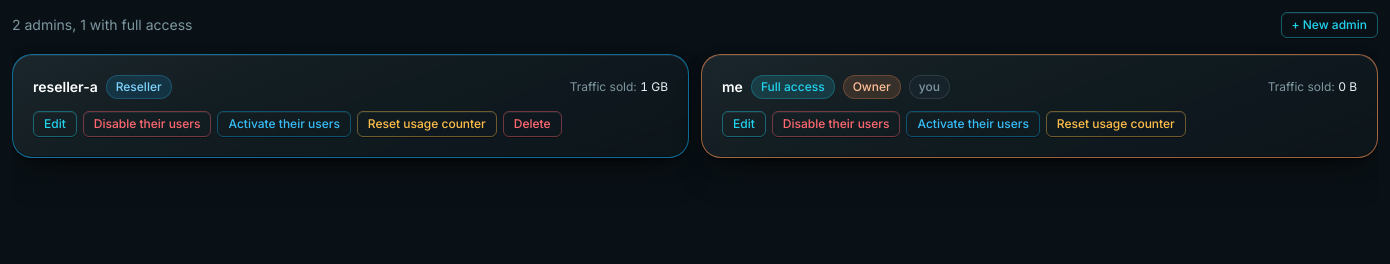
bulk actions on an admin › shows one confirmation at a time, and Cancel closes it without doing anything
Click the button "Disable their users" below "reseller-a": point(147, 124) [83,111,212,137]
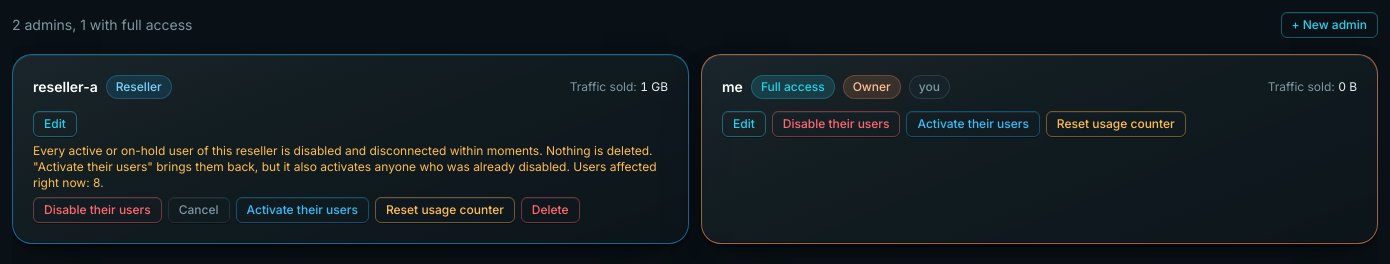
Click the button "Activate their users" below "Users affected right now:  8 .": point(302, 210) [236,197,369,223]
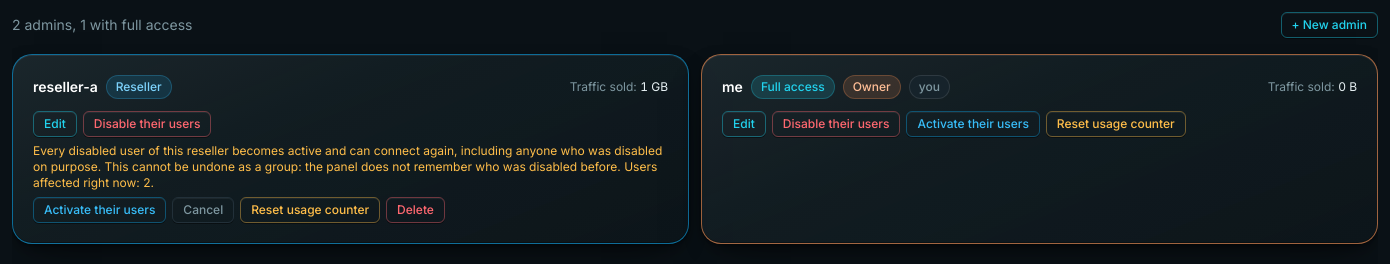
expect the text "is disabled and disconnected within moments" is gone: met
expect the text "becomes active and can connect again" is shown: met, box [33,143,662,174]
Click the button "Cancel": point(203, 210) [172,197,234,223]
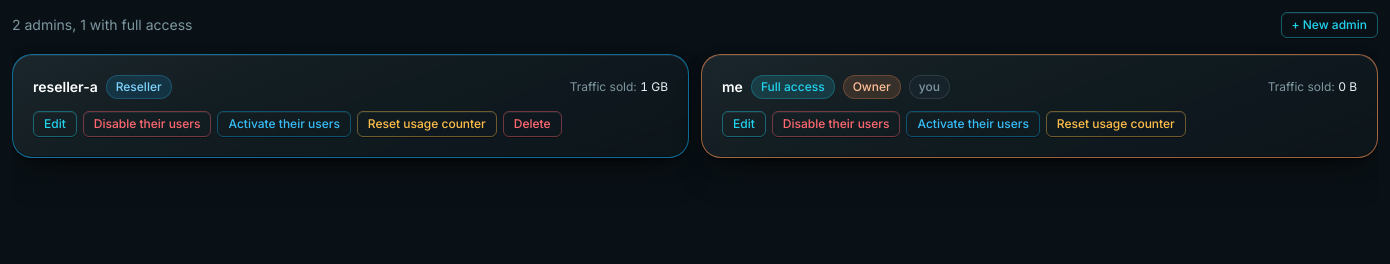
expect the text "becomes active and can connect again" is gone: met
